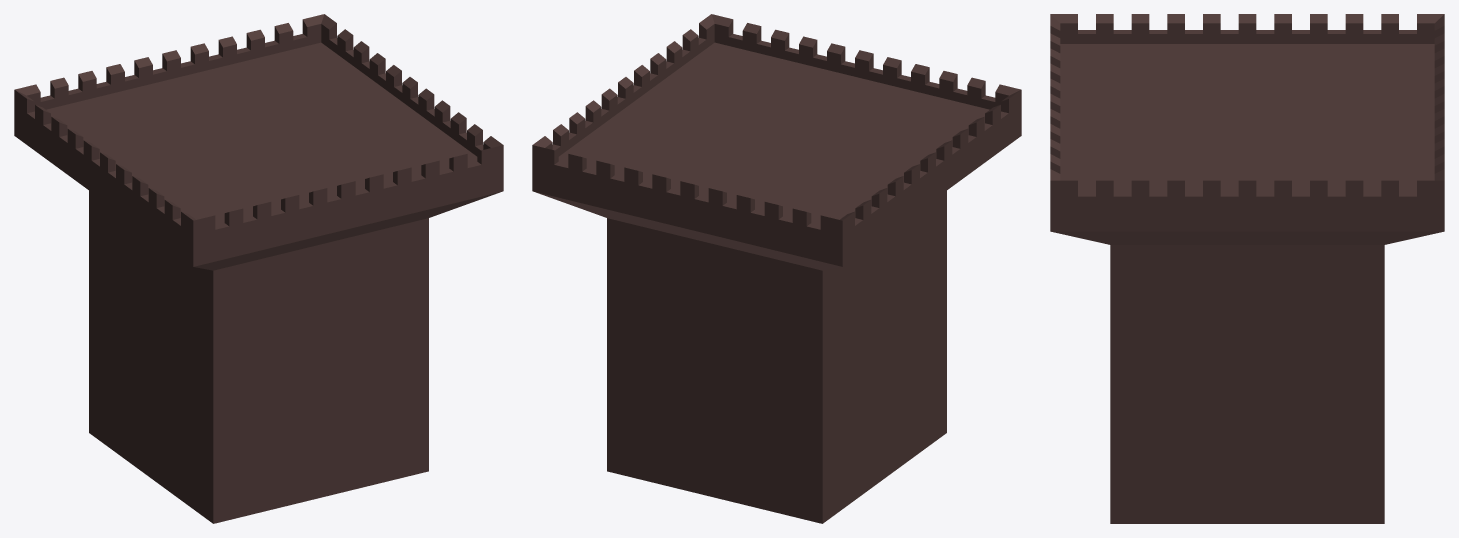
File: Tower.fbx
3 renders of one model, left to right at view 1: azimuth 30°, elevation 25°; view 2: azimuth 150°, elevation 25°; view 3: azimuth 270°, elevation 25°, orthographic. The views are drawn at different scales.
Parts seen in each view (by area): view 1: Tower; view 2: Tower; view 3: Tower.
Boxes of the visible parts, x1,y1,x2,y2 form: Tower: (14, 14, 503, 523); Tower: (532, 14, 1021, 523); Tower: (1050, 14, 1444, 523).
Bounding box in the file's own units: 10 × 10.32 × 10.
